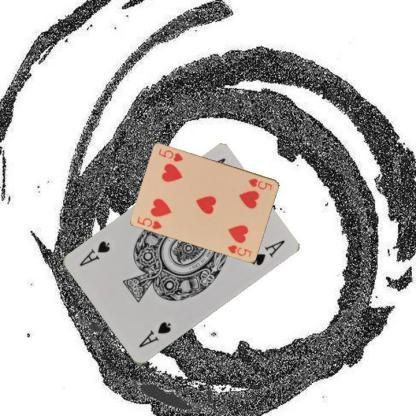5h: (134, 214, 164, 230), (246, 175, 273, 192)
As: (136, 320, 172, 350)
